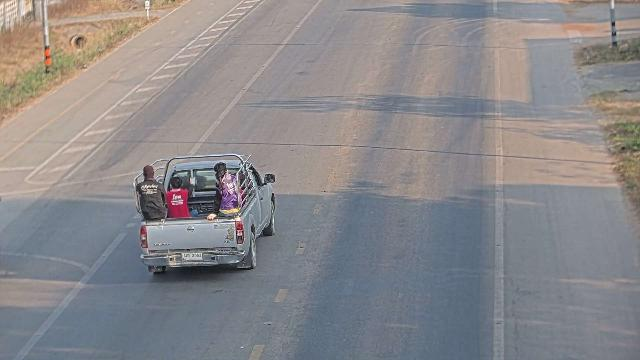pickup-truck: (132, 152, 277, 274)
